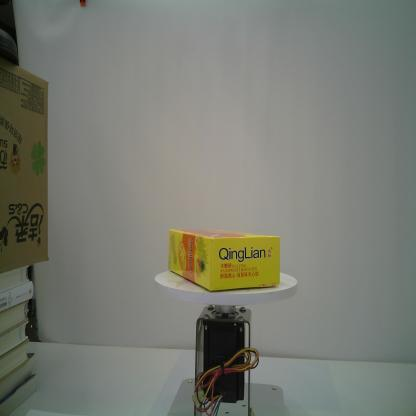Dessert: (167, 227, 282, 292)
